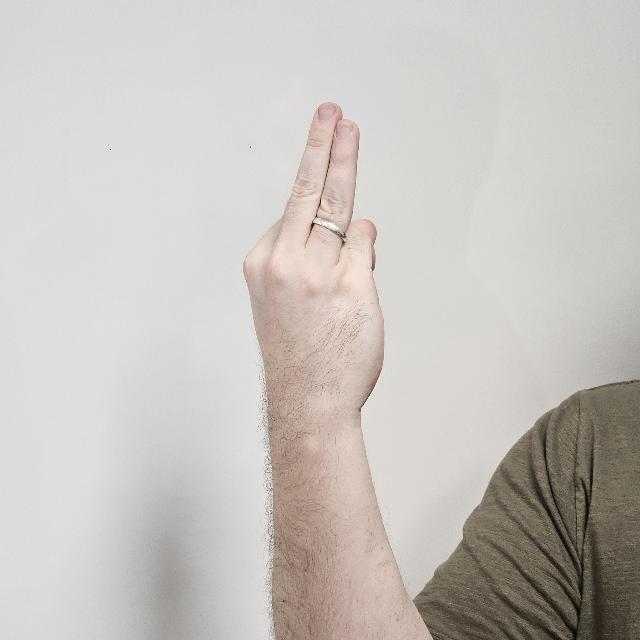R: (244, 82, 401, 444)
